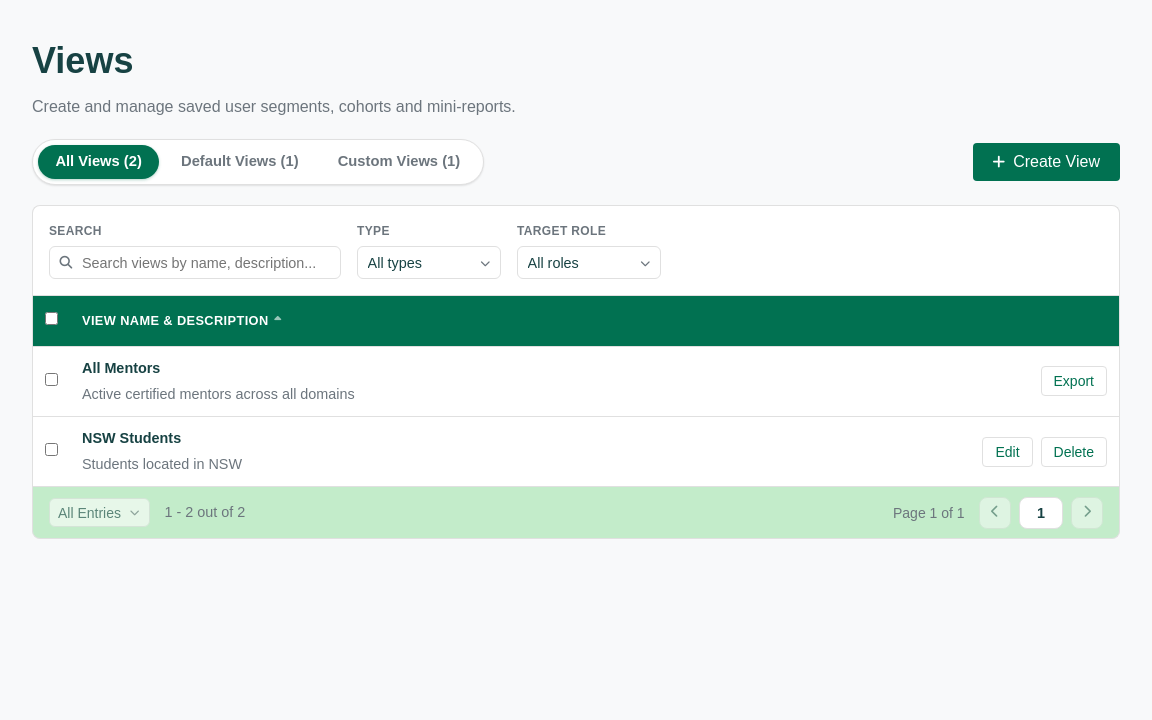
Test: AdminViewsDirectoryPage › filters displayed views by tab without refetching from the server
The image size is (1152, 720).
Click the tab "Default Views (1)" at (240, 162), box [163,145,316,179]
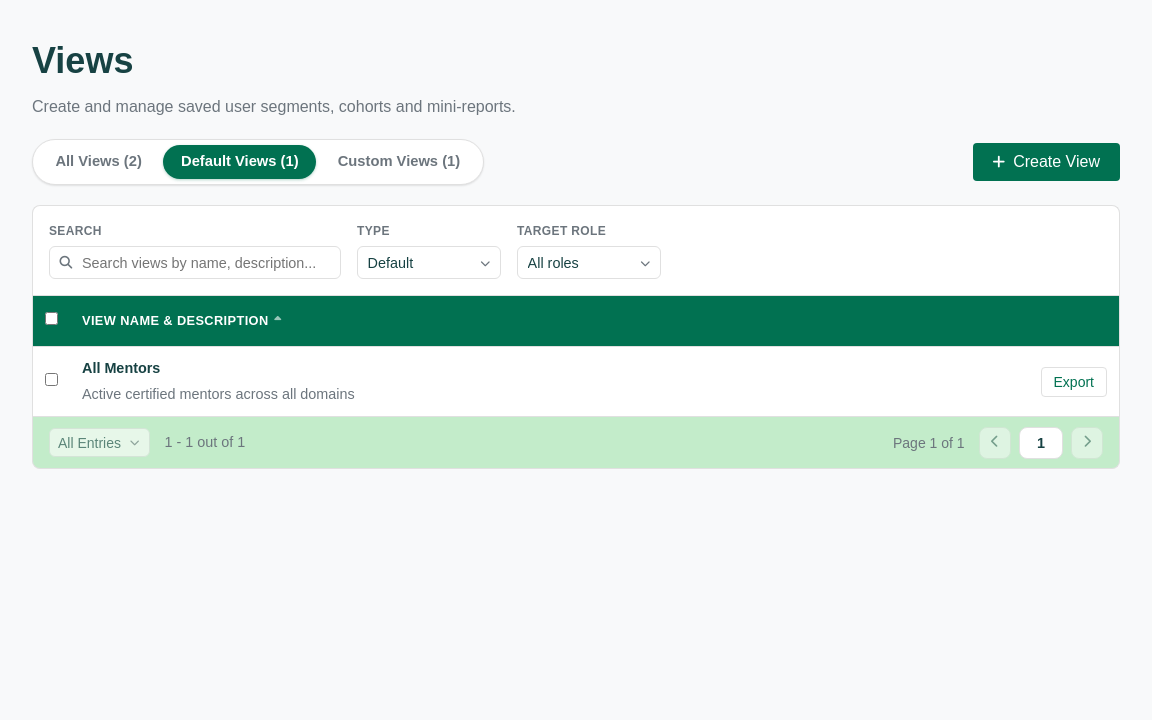
Check: the text "All Mentors" is shown, box [82,360,160,376]
Check: the text "NSW Students" is gone
